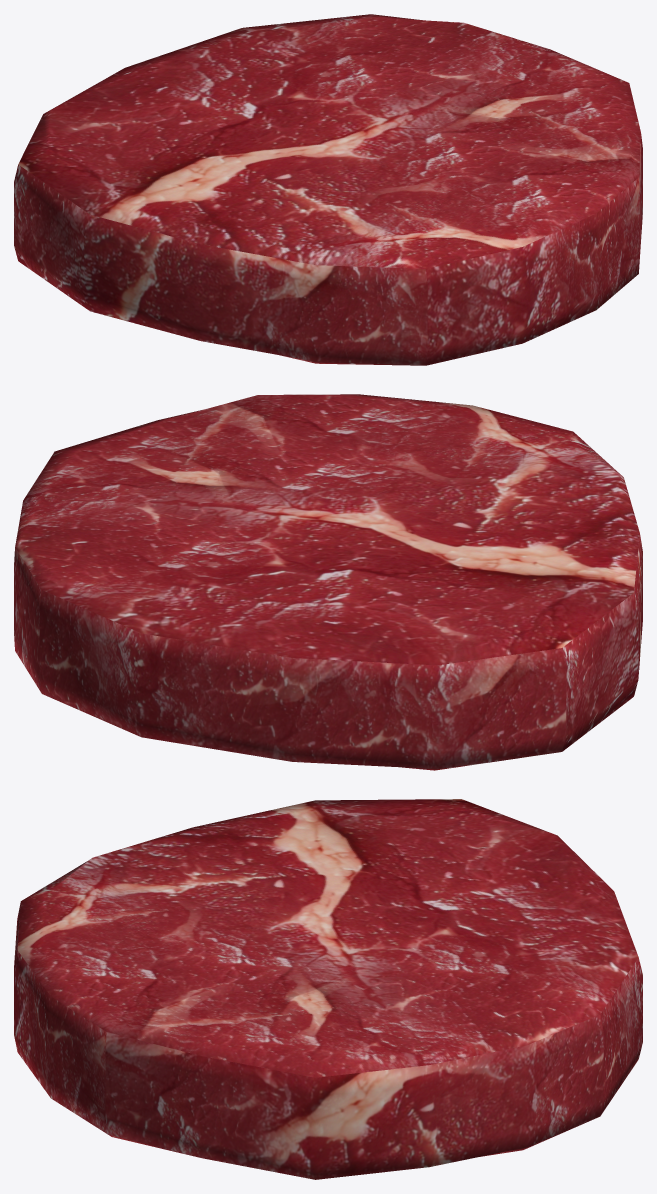
File: Daging mentah.fbx
3 renders of one model, top to bottom at view 1: azimuth 30°, elevation 25°; view 2: azimuth 150°, elevation 25°; view 3: azimuth 270°, elevation 25°, orthographic. The views are drawn at different scales.
Parts seen in each view (by area): view 1: Daging mentah; view 2: Daging mentah; view 3: Daging mentah.
Part boxes in pixels (left/top/right/bottom): Daging mentah: left=14, top=14, right=642, bottom=365; Daging mentah: left=14, top=394, right=642, bottom=770; Daging mentah: left=14, top=799, right=642, bottom=1179.
Bounding box in the file's own units: 39.63 × 7.65 × 37.3.
Materials: 1 (1 with a texture image).
